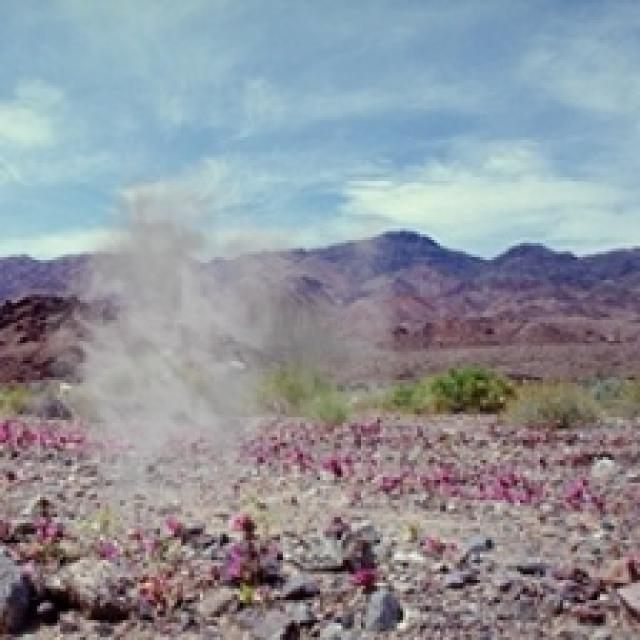Smoke: (42, 137, 434, 534)
